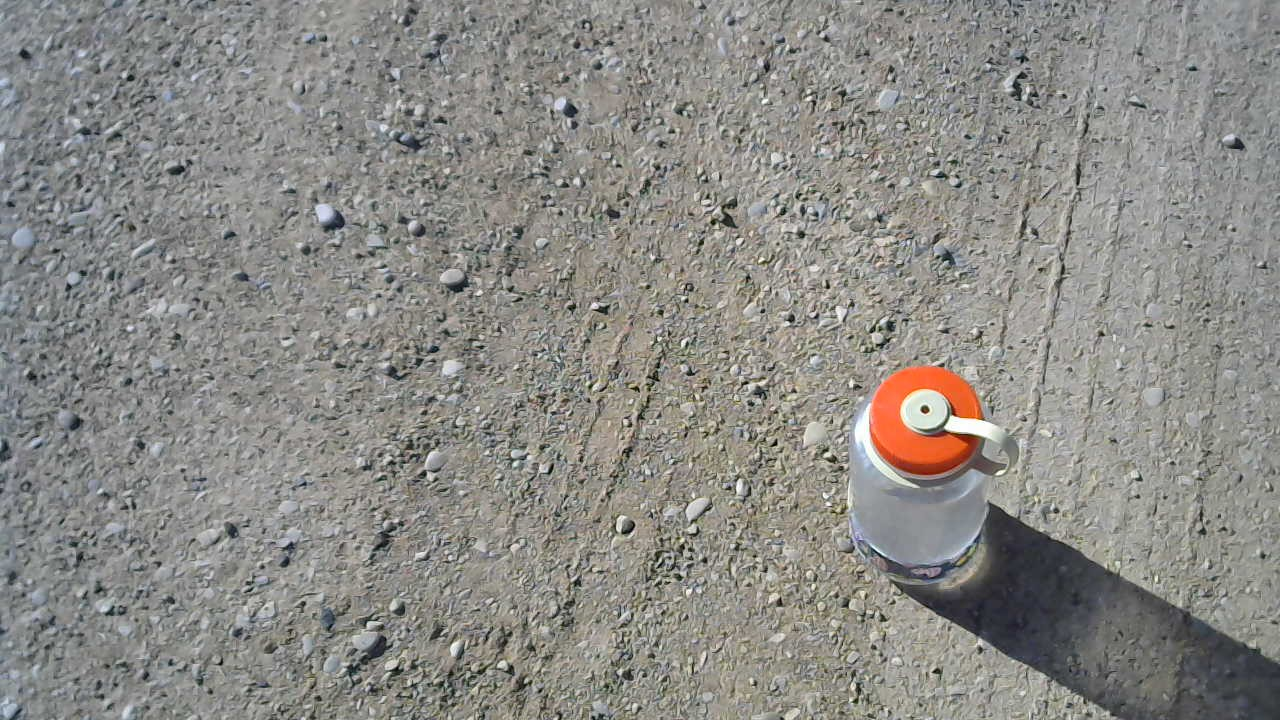bottle: (844, 356, 1022, 594)
